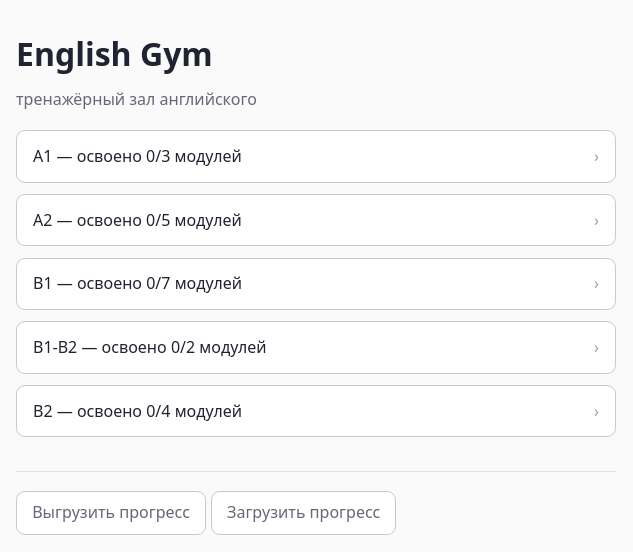
Test: ModuleList › drills into a level, lists only its modules, and goes back
Click the button "A1 — освоено 0/3 модулей".
click(99, 156)  # box left=16, top=130, right=616, bottom=183
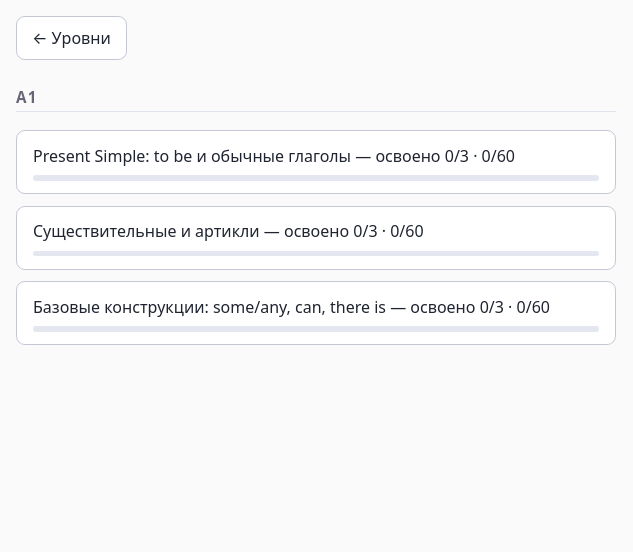
Click the button "← Уровни".
click(72, 38)  # box left=16, top=16, right=127, bottom=60
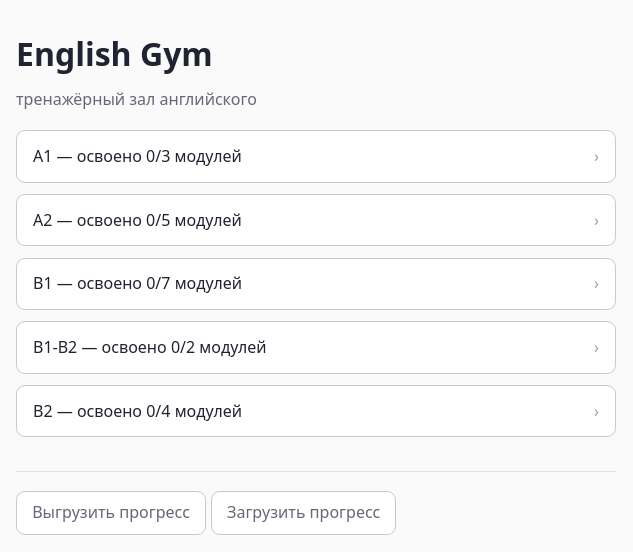
Now the button "A1 — освоено 0/3 модулей" is shown, box left=16, top=130, right=616, bottom=183
